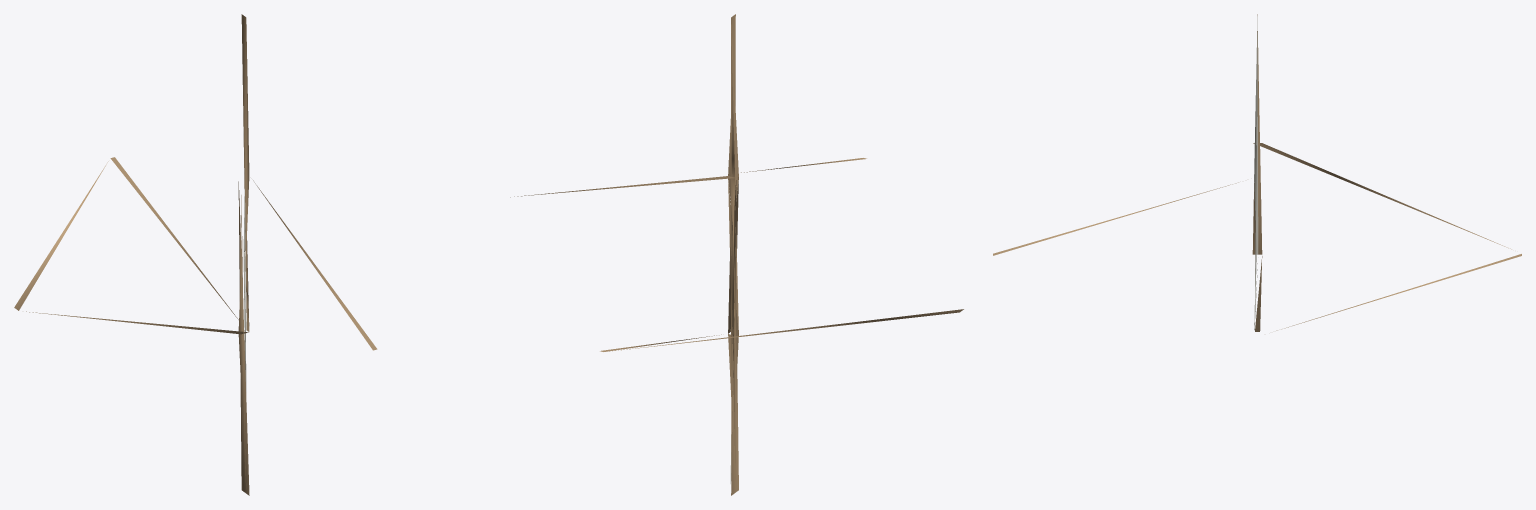
File: equip_weapon_oak_longbow.glb
The picture shows the model from 3 angles, left to right: view 1: azimuth 30°, elevation 25°; view 2: azimuth 150°, elevation 25°; view 3: azimuth 270°, elevation 25°; orthographic projection.
Parts seen in each view (by area): view 1: equip_weapon_oak_longbow; view 2: equip_weapon_oak_longbow; view 3: equip_weapon_oak_longbow.
Boxes of the visible parts, x1,y1,x2,y2 form: equip_weapon_oak_longbow: [14, 14, 377, 495]; equip_weapon_oak_longbow: [510, 14, 963, 495]; equip_weapon_oak_longbow: [993, 14, 1521, 331].
Size of the model in its own units: 2 by 2 by 2.
